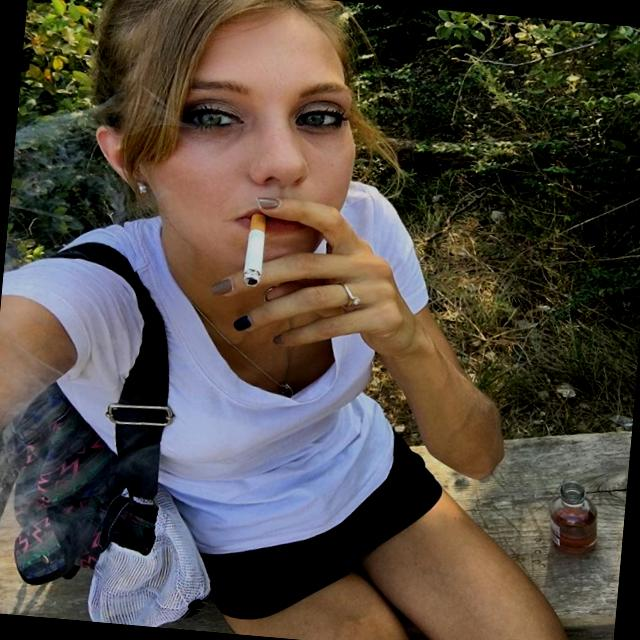smoke: (238, 206, 276, 288)
